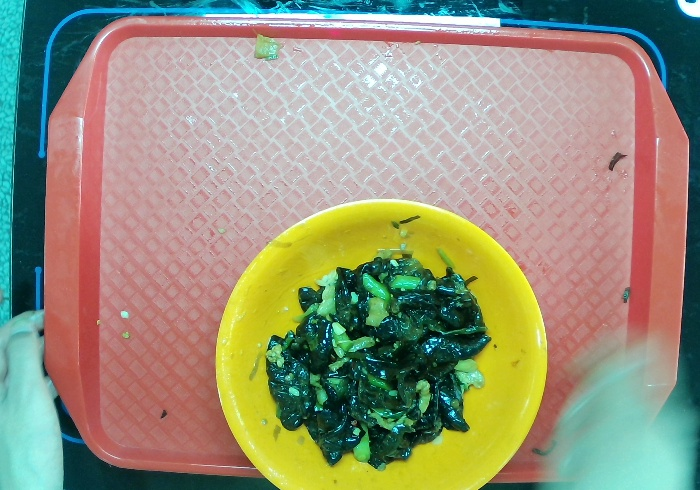YKMZ-Ju_Se_Tang_Wan: (209, 196, 551, 490)
